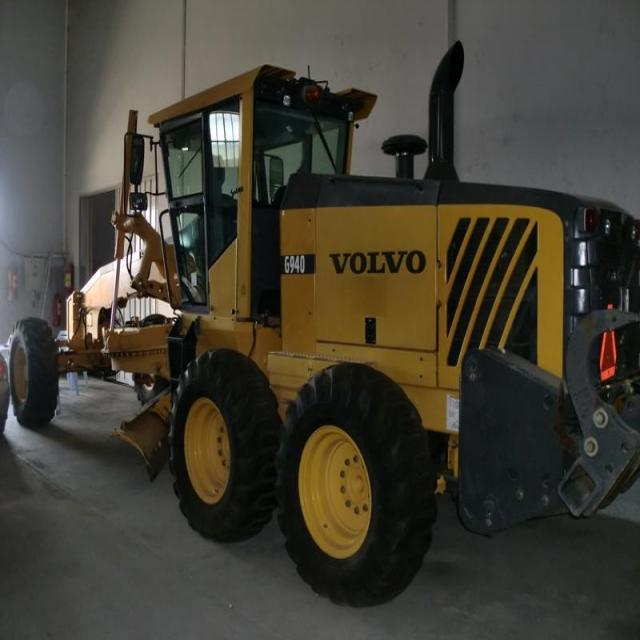Grader: (15, 60, 638, 599)
